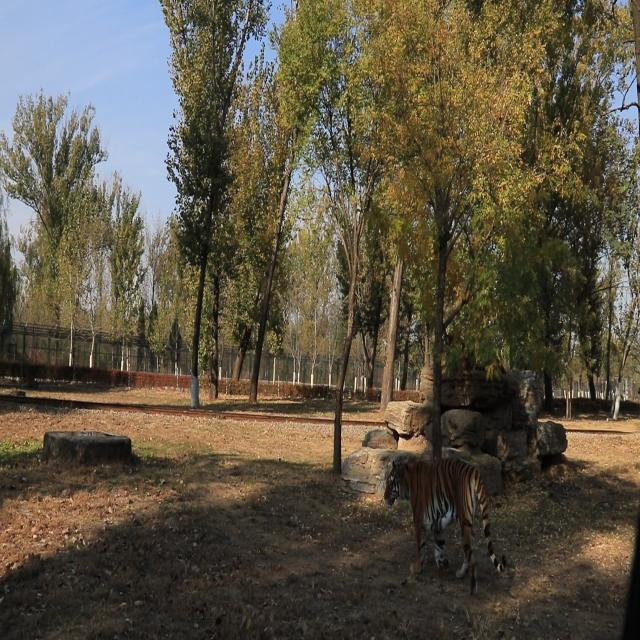Tiger: (379, 451, 512, 598)
